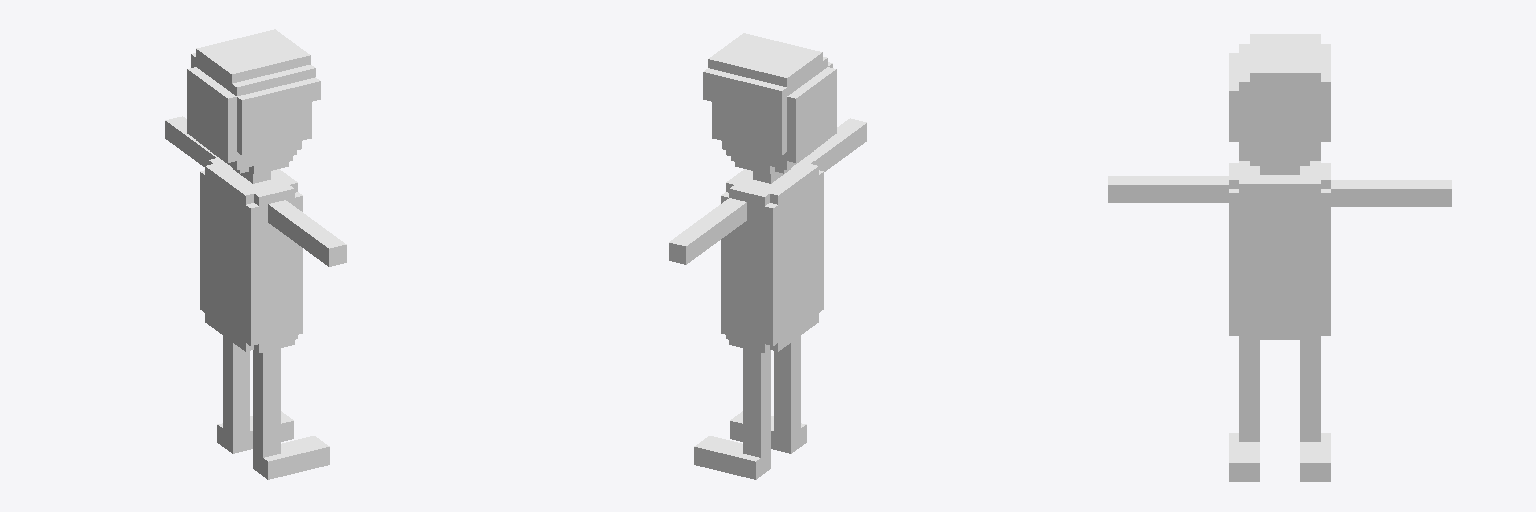
File: Male.obj
3 renders of one model, left to right at view 1: azimuth 30°, elevation 25°; view 2: azimuth 150°, elevation 25°; view 3: azimuth 270°, elevation 25°, orthographic.
Parts seen in each view (by area): view 1: object 1; view 2: object 1; view 3: object 1.
Part boxes in pixels (x1,y1,x2,y2): object 1: (165,29,346,479); object 1: (669,33,866,479); object 1: (1108,34,1451,481).
Size of the model in its own units: 1.1 by 4.4 by 3.4.